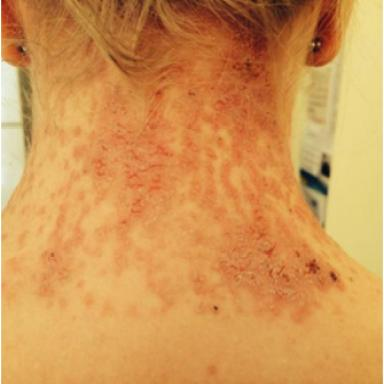Darier_s-Disease: (0, 33, 350, 326)
